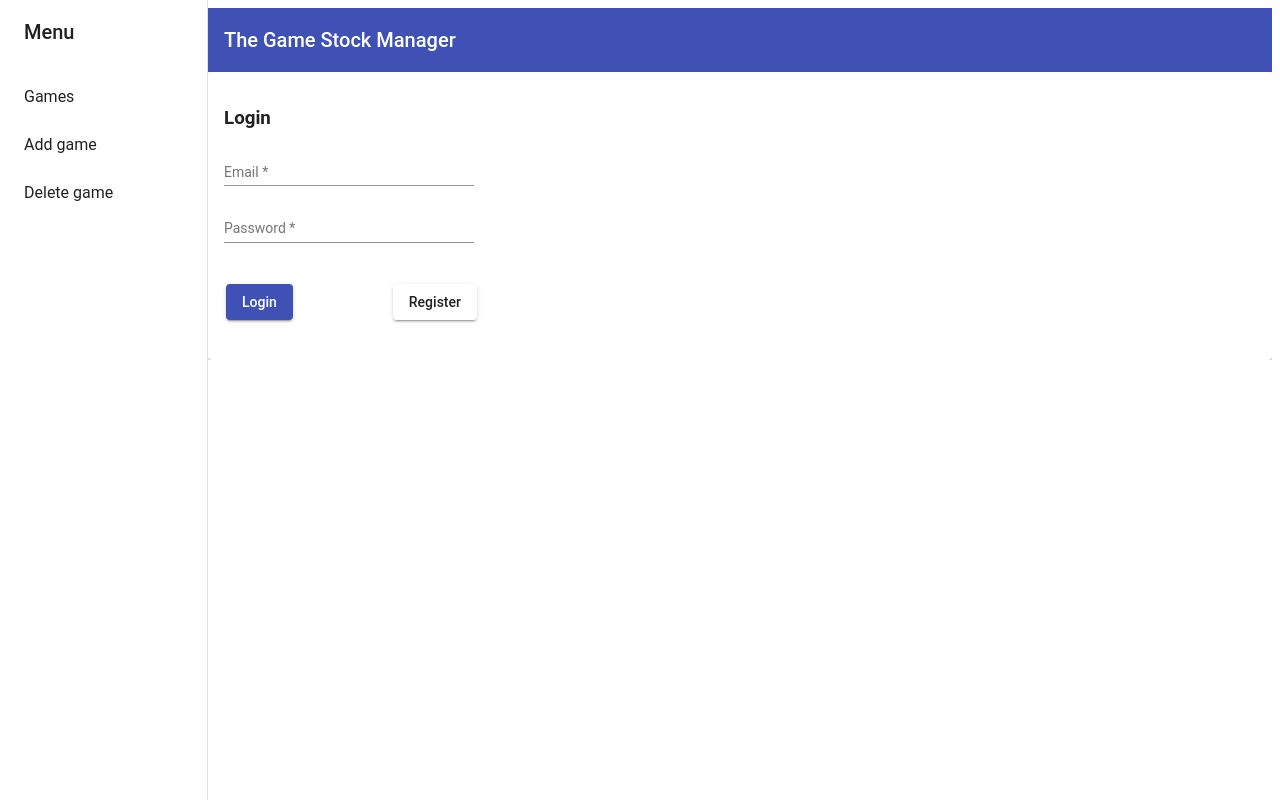
Test: login test › failed fields are empty
Click the button with test id "login-button".
click(260, 302)  # box 226,284 -> 293,320
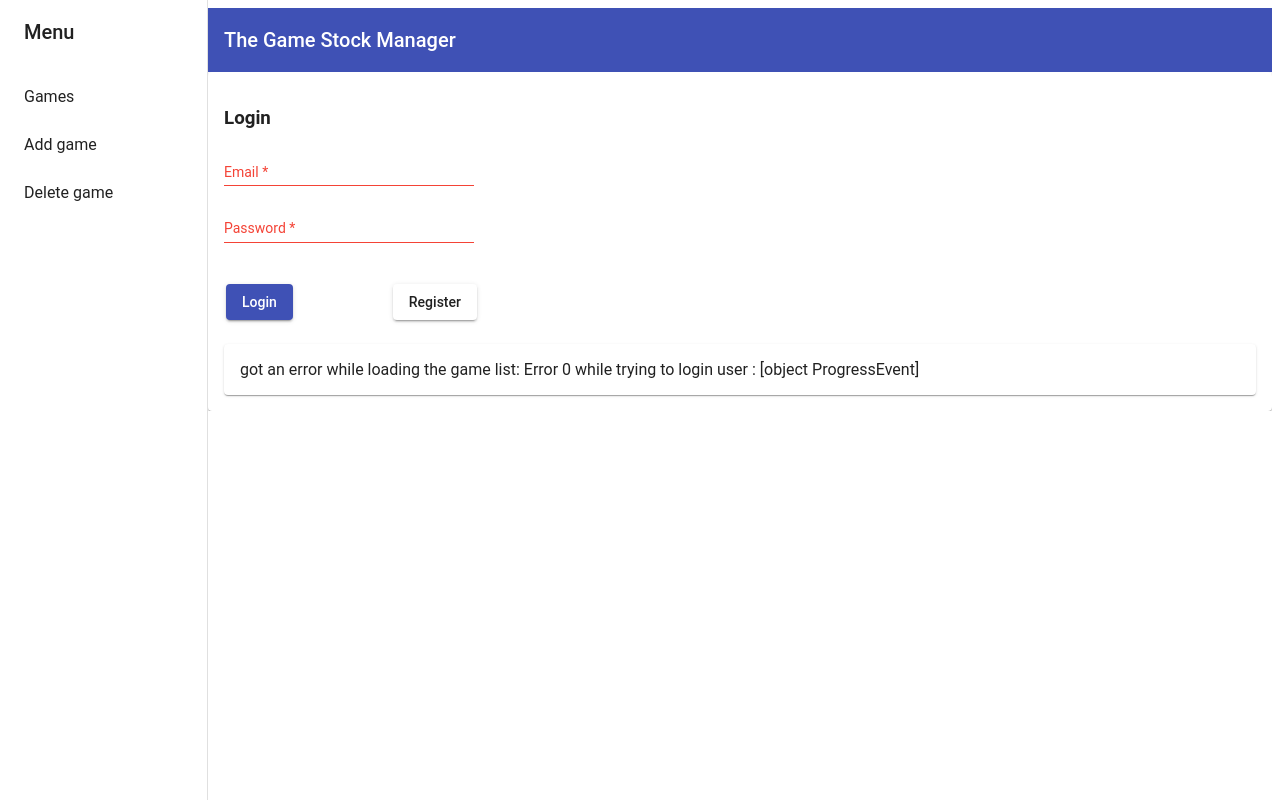
Now the text with test id "appError" is shown, box 224,344 -> 1256,395
